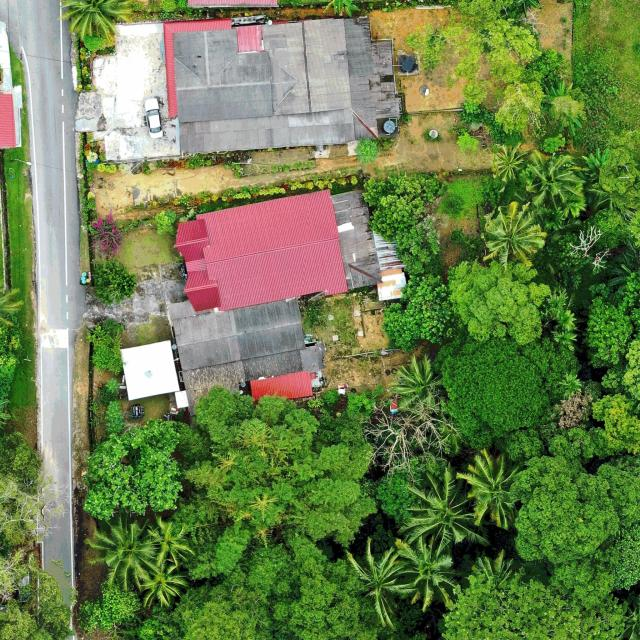Tree: (184, 386, 380, 551), (432, 336, 578, 451), (441, 575, 630, 640), (508, 456, 620, 565), (81, 417, 184, 519), (446, 260, 551, 345), (340, 537, 410, 631), (362, 170, 450, 241), (401, 465, 473, 547), (580, 272, 640, 367), (83, 514, 155, 592), (456, 450, 525, 530), (382, 273, 449, 353), (392, 536, 460, 614), (482, 201, 547, 269), (523, 150, 583, 208), (57, 0, 139, 39), (390, 354, 447, 408), (136, 553, 190, 609), (144, 515, 202, 567), (392, 224, 440, 275), (91, 256, 138, 306), (86, 324, 126, 374), (89, 210, 125, 261), (491, 144, 528, 182), (355, 136, 382, 165), (582, 146, 611, 170), (153, 209, 177, 235)
